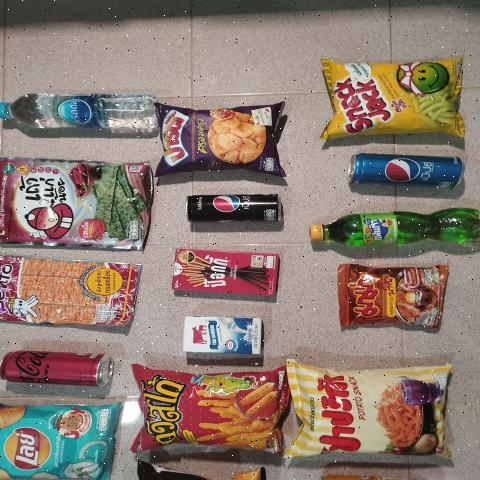bento_red: (0, 263, 142, 323)
coke_red: (0, 349, 116, 387)
crystal: (0, 77, 164, 138)
fanta_green: (298, 207, 480, 258)
lay_blue: (0, 401, 122, 480)
mama: (340, 266, 441, 328)
paprika: (292, 372, 452, 464)
party_purple: (167, 109, 278, 169)
pepsi_black: (185, 191, 288, 226)
pepsi_blue: (342, 148, 474, 192)
pokki: (173, 248, 280, 295)
snack_jack: (323, 63, 459, 139)
taokaenoi: (3, 159, 147, 251)
thai_denmark: (183, 318, 264, 362)
twisco: (147, 368, 272, 450)
